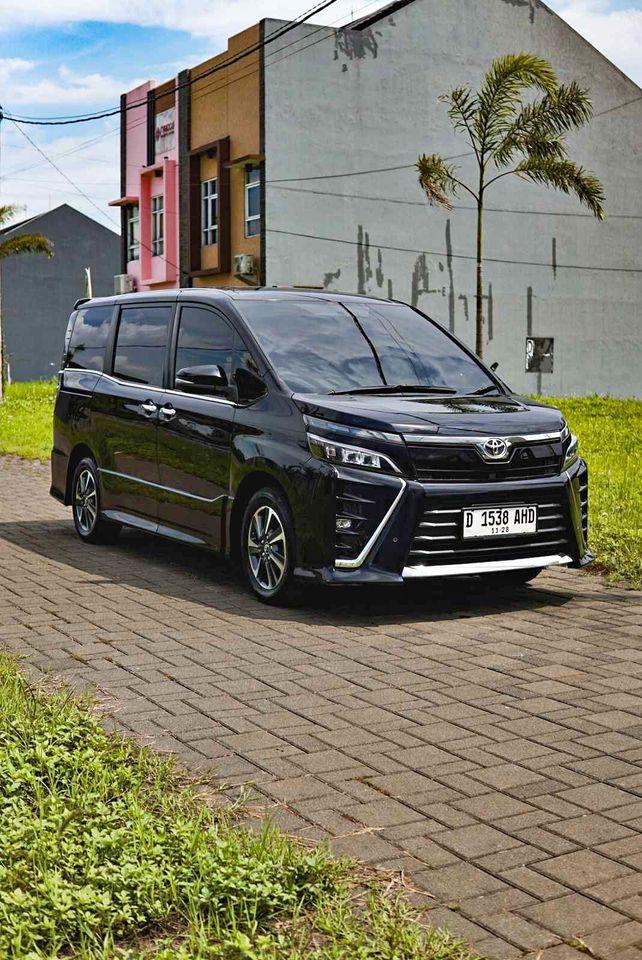plat nomor: (445, 492, 551, 560)
